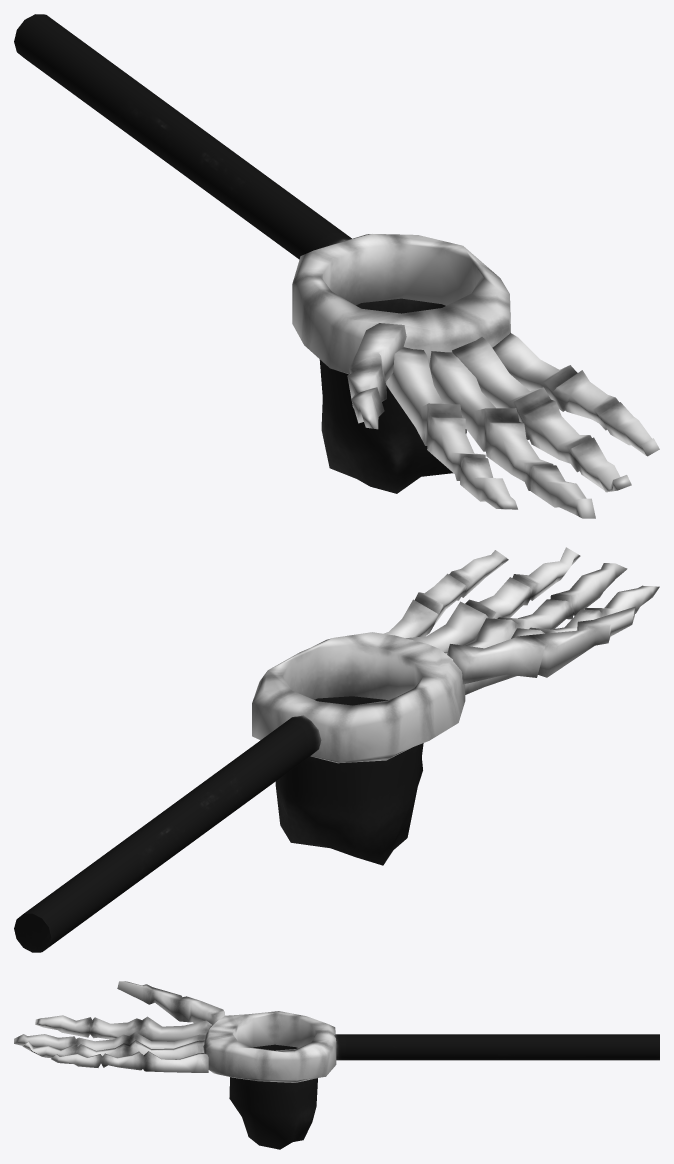
Rendered from HW_SkeletonHand.fbx.
The picture shows the model from 3 angles, top to bottom: view 1: azimuth 30°, elevation 25°; view 2: azimuth 150°, elevation 25°; view 3: azimuth 270°, elevation 25°; orthographic projection. The views are drawn at different scales.
Parts seen in each view (by area): view 1: HW_SkeletonHand; view 2: HW_SkeletonHand; view 3: HW_SkeletonHand.
Boxes of the visible parts, bbox=[...] form: HW_SkeletonHand: bbox=[14, 14, 659, 518]; HW_SkeletonHand: bbox=[14, 547, 659, 952]; HW_SkeletonHand: bbox=[14, 981, 659, 1149].
Size of the model in its own units: 0.2788 by 0.2143 by 1.11.
Materials: 1 (1 with a texture image).
